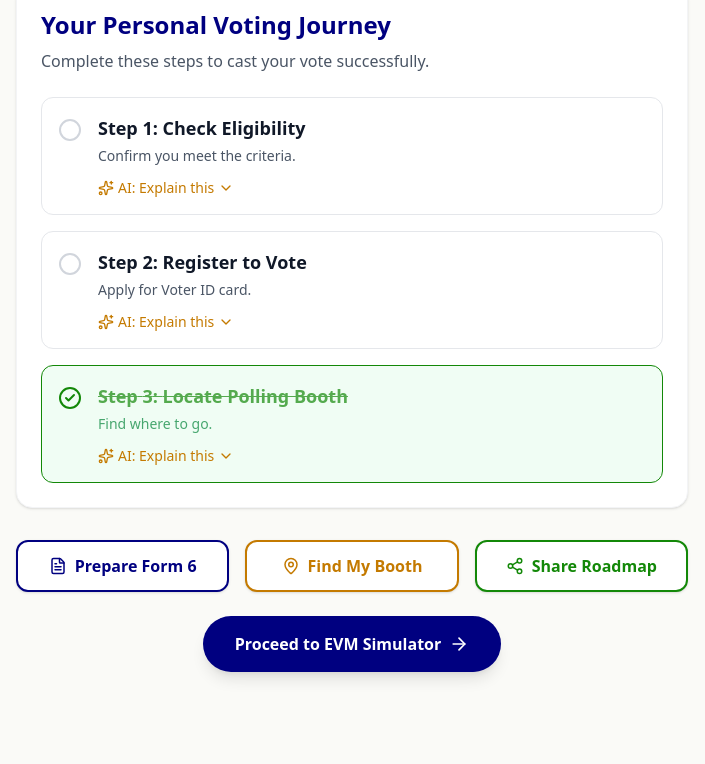
it: Journey › fetches and shows an AI explanation when "Explain this" is clicked
The image size is (705, 764).
Click the button "AI: Explain this" below "Confirm you meet the criteria." at (166, 188), box [98, 178, 234, 198]
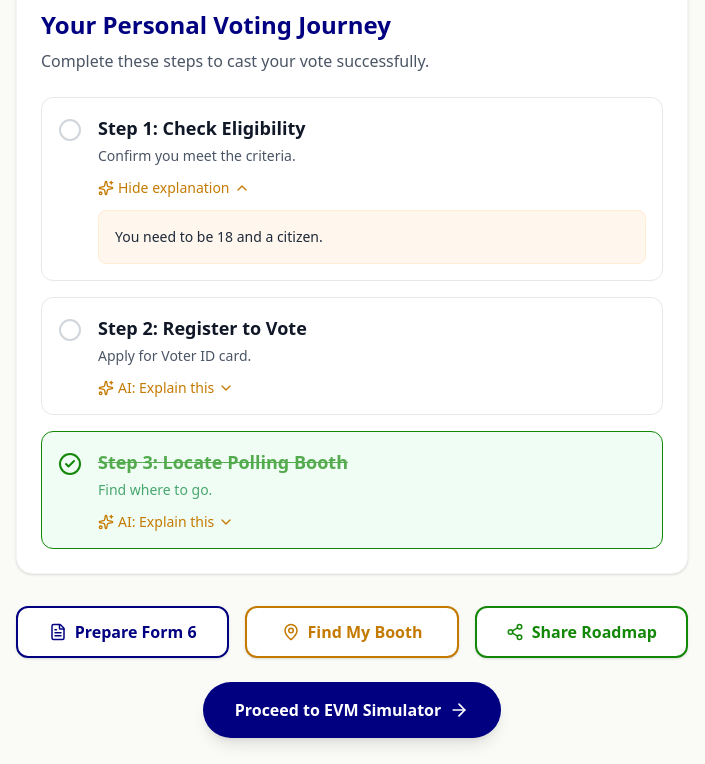
Now the text "You need to be 18 and a citizen." is shown, box [115, 227, 323, 246]
